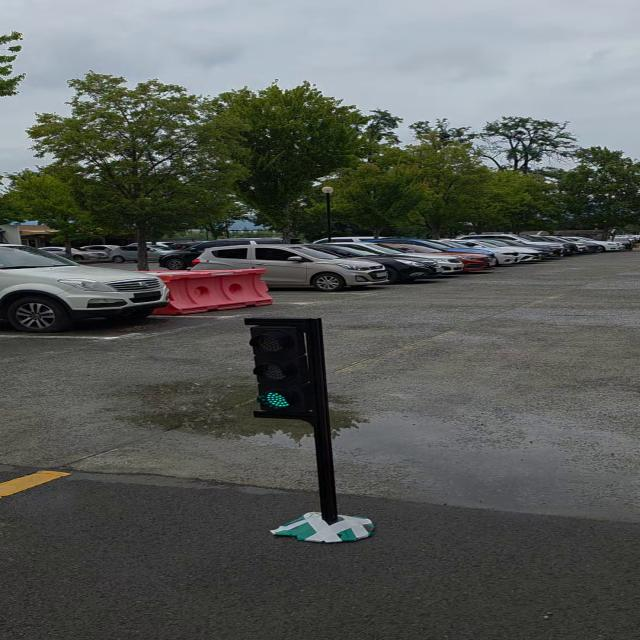green: (246, 317, 320, 421)
